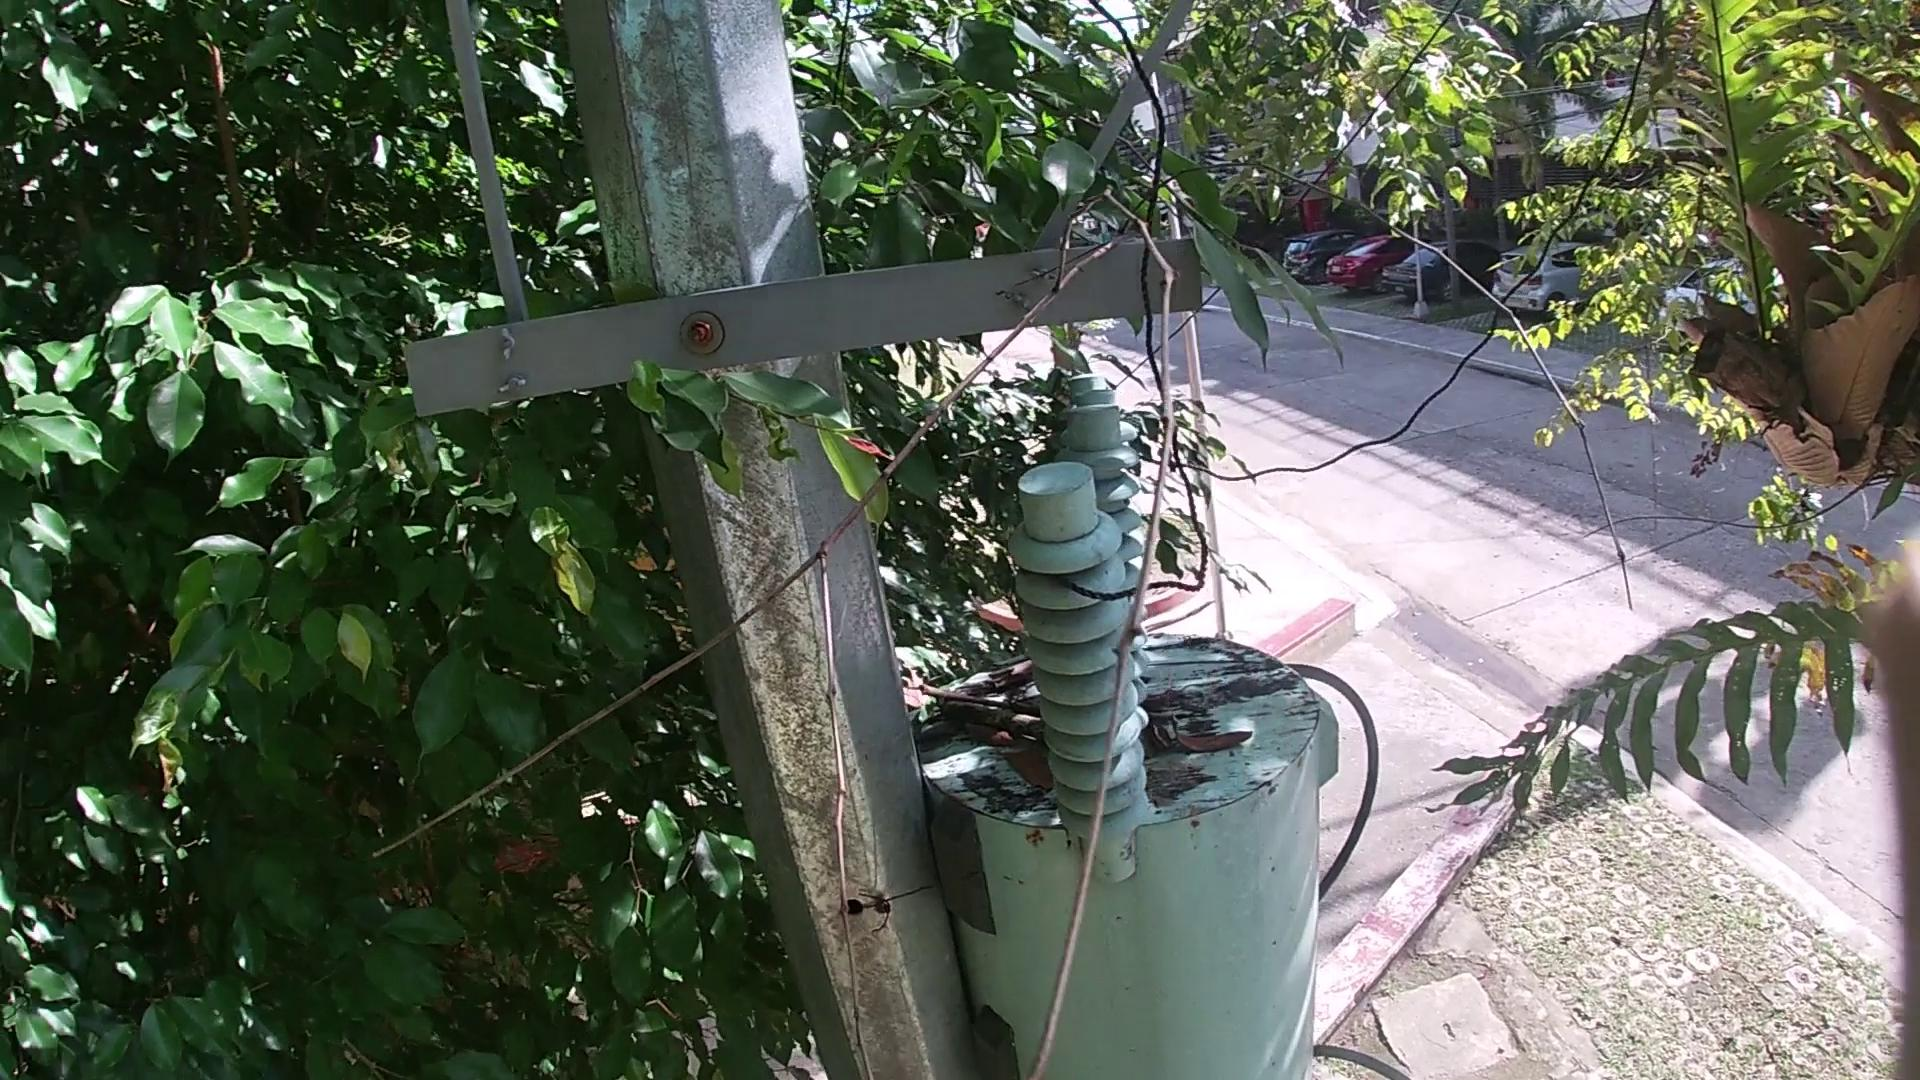leaf: (1166, 712, 1257, 757), (996, 746, 1056, 796), (959, 717, 1015, 750)
tree branch: (360, 162, 1648, 1079), (913, 686, 1048, 738), (982, 657, 1039, 699)
